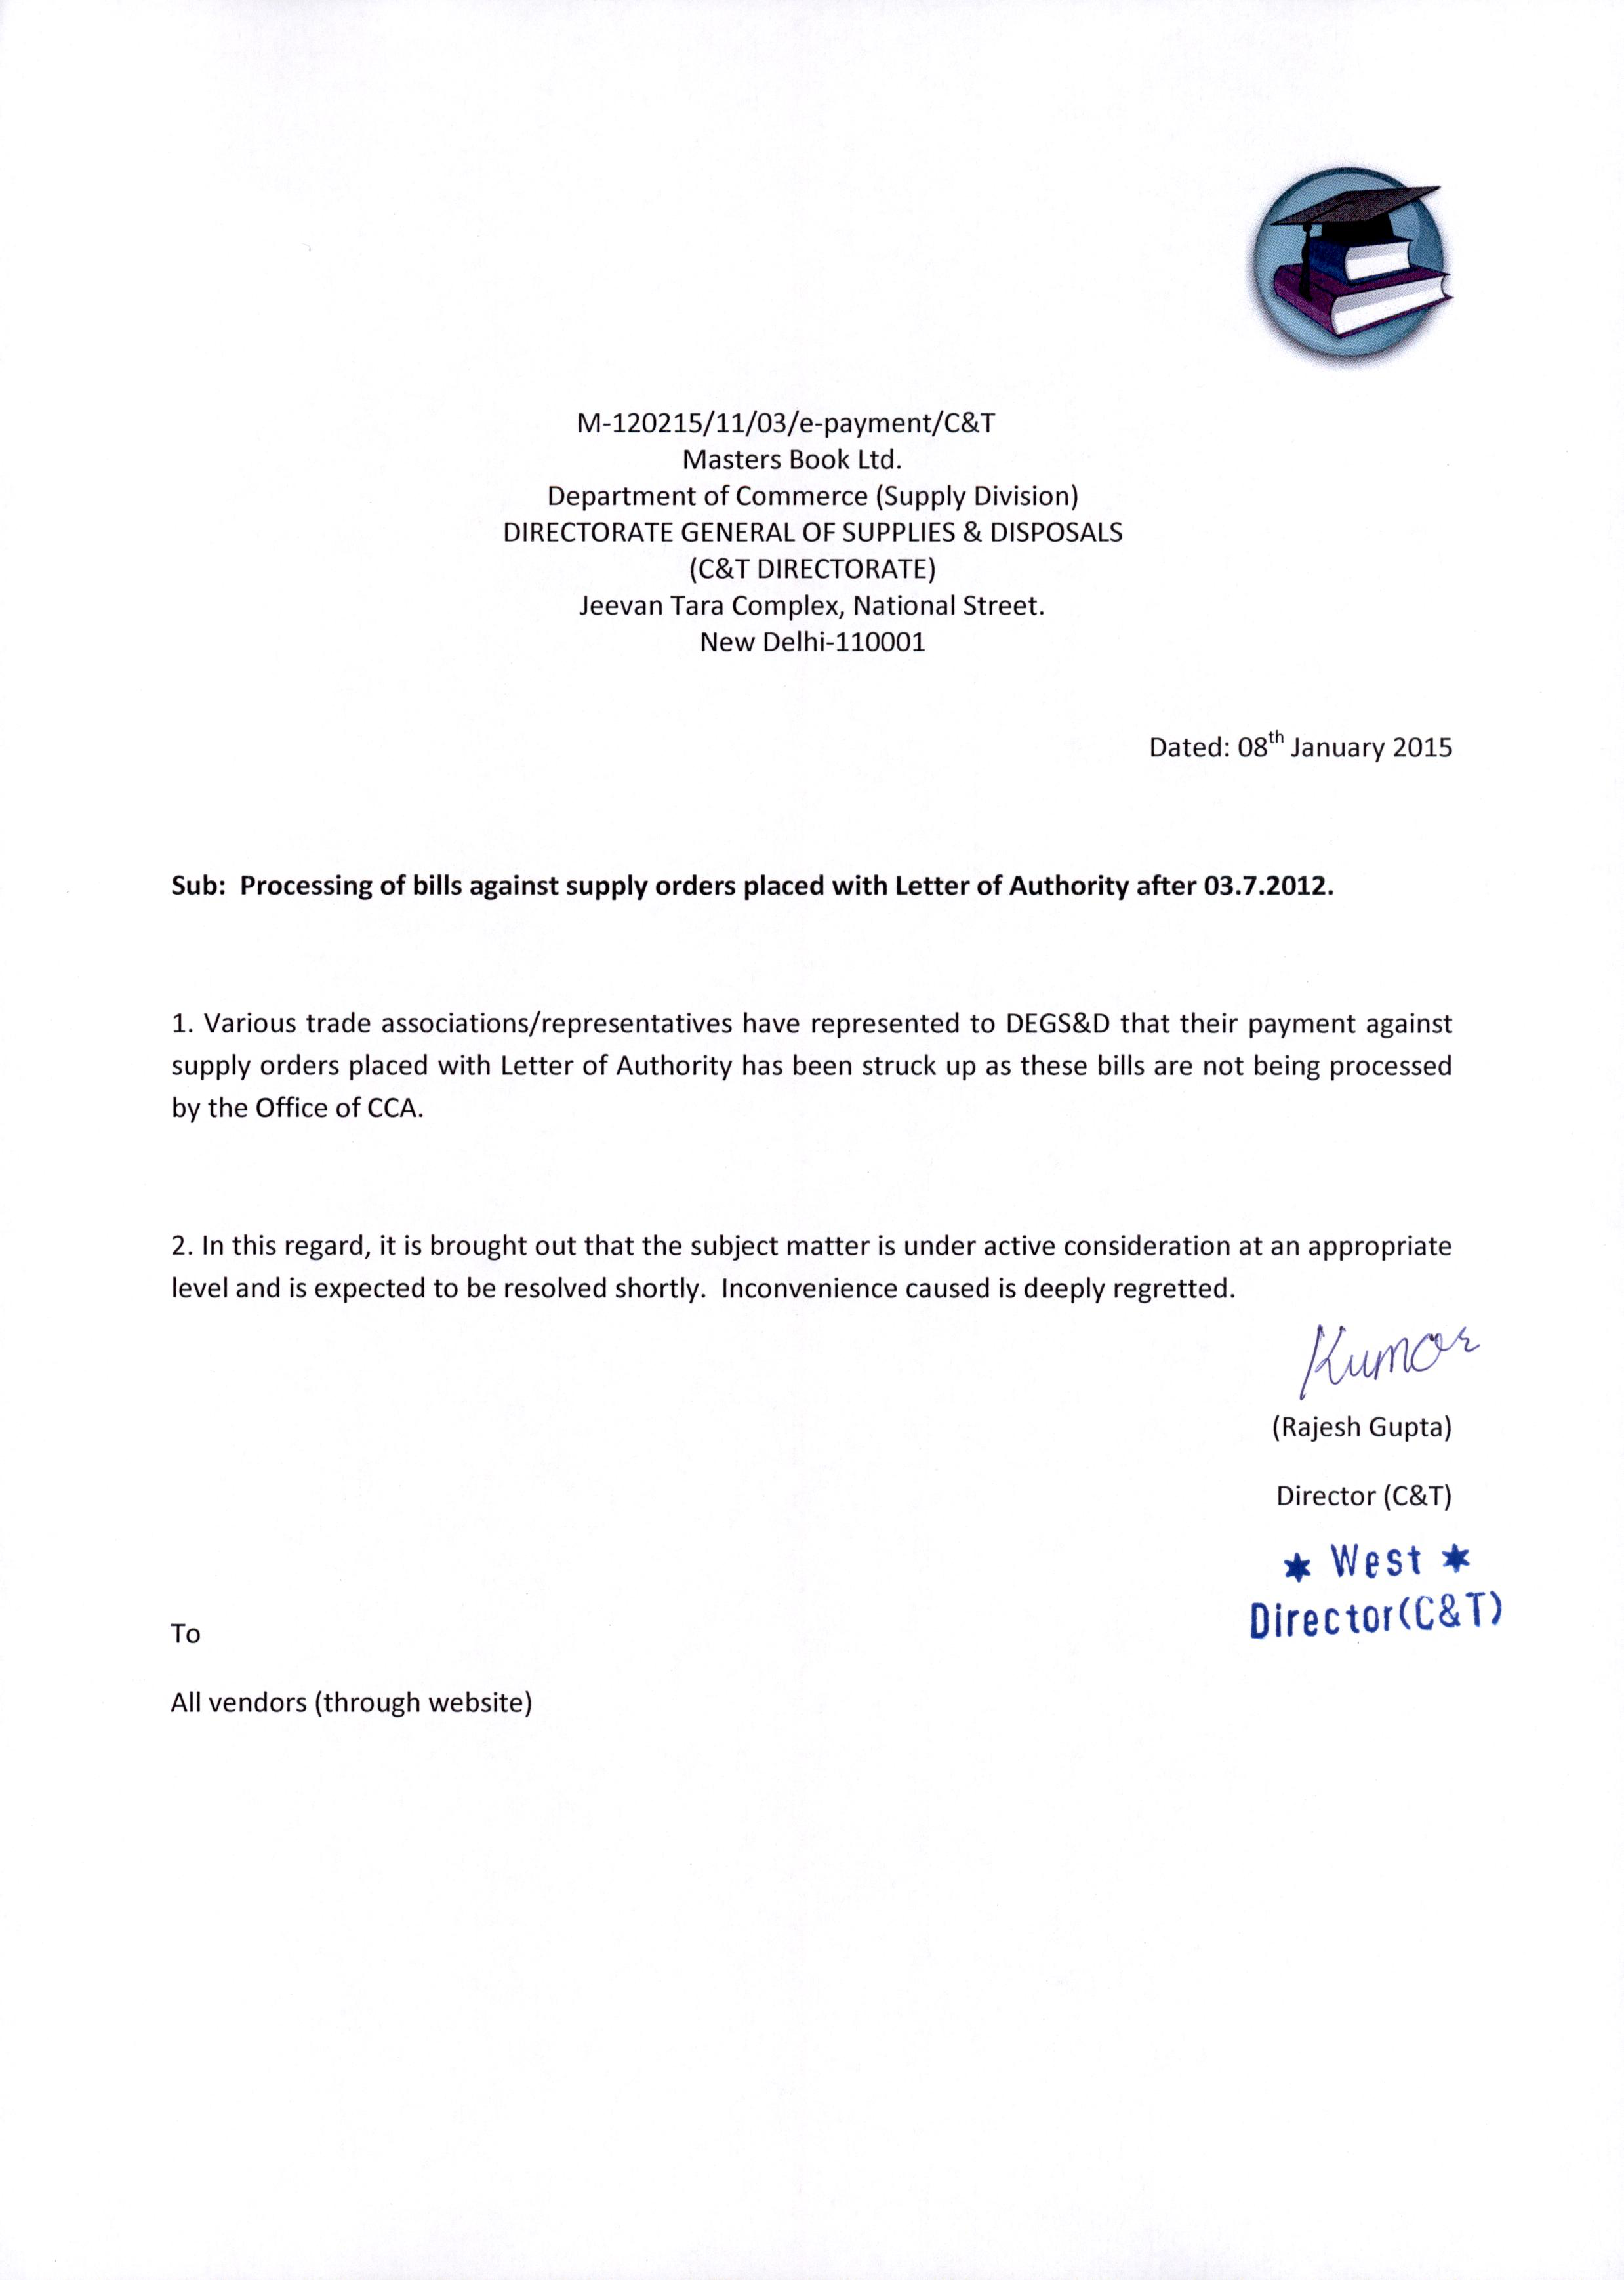Signature: (1281, 1313, 1496, 1406)
